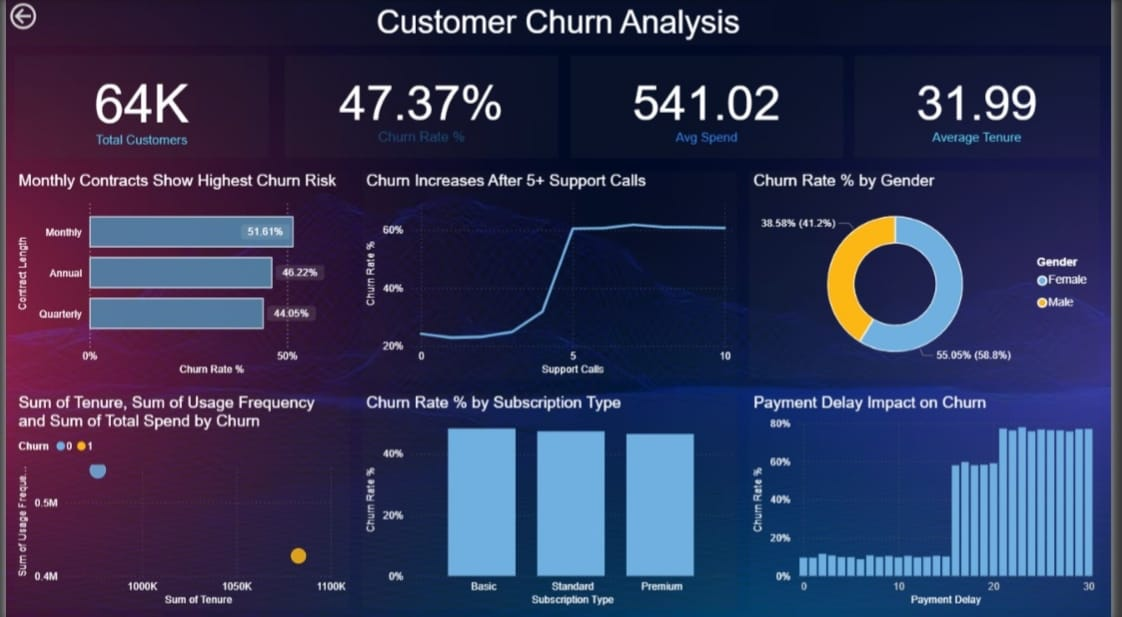

Layout of this report page (visuals, bound fields, positions):
{"tool":"powerbi","page":{"name":"Page 1","canvas":[1280,720],"ordinal":0},"visuals":[{"type":"textbox","box":[0,0,1280,53.3],"z":0},{"type":"card","fields":{"Values":["calculated measure.Total Customers"]},"box":[10,65.6,295.6,118.9],"z":1000},{"type":"actionButton","box":[0,0,100,40],"z":2000},{"type":"card","fields":{"Values":["calculated measure.Churn Rate %"]},"box":[323.3,65.6,316.7,118.9],"z":3000},{"type":"card","fields":{"Values":["calculated measure.Avg Spend"]},"box":[653.3,65.6,316.7,118.9],"z":4000},{"type":"card","fields":{"Values":["calculated measure.Average Tenure"]},"box":[983.3,65.6,284.4,118.9],"z":5000},{"type":"clusteredBarChart","title":"Monthly Contracts Show Highest Churn Risk","fields":{"Category":["customer_churn_dataset-testing-master.Contract Length"],"Y":["calculated measure.Churn Rate %"]},"box":[10,198.9,388.9,241.1],"z":6000},{"type":"columnChart","fields":{"Y":["calculated measure.Churn Rate %"],"Category":["customer_churn_dataset-testing-master.Subscription Type"]},"box":[412.2,455.6,435.6,250],"z":7000},{"type":"lineChart","title":"Churn Increases After 5+ Support Calls","fields":{"Y":["calculated measure.Churn Rate %"],"Category":["customer_churn_dataset-testing-master.Support Calls"]},"box":[412.2,198.9,435.6,241.1],"z":8000},{"type":"scatterChart","fields":{"X":["Sum(customer_churn_dataset-testing-master.Tenure)"],"Y":["Sum(customer_churn_dataset-testing-master.Usage Frequency)"],"Series":["customer_churn_dataset-testing-master.Churn"],"Size":["Sum(customer_churn_dataset-testing-master.Total Spend)"]},"box":[10,455.6,388.9,250],"z":9000},{"type":"donutChart","fields":{"Category":["customer_churn_dataset-testing-master.Gender"],"Y":["calculated measure.Churn Rate %"]},"box":[861.1,198.9,405.6,241.1],"z":10000},{"type":"clusteredColumnChart","title":"Payment Delay Impact on Churn","fields":{"Category":["customer_churn_dataset-testing-master.Payment Delay"],"Y":["calculated measure.Churn Rate %"]},"box":[861,456,406,250],"z":11000}]}

Visuals, with their boxes in screenshot pixels (x1, y1, x2, y2), scaled from the page's 1280x720 canvas onto the 1122x617 screenshot:
textbox: left=0, top=0, right=1121, bottom=46
card - calculated measure.Total Customers: left=9, top=56, right=268, bottom=158
actionButton: left=0, top=0, right=88, bottom=34
card - calculated measure.Churn Rate %: left=283, top=56, right=561, bottom=158
card - calculated measure.Avg Spend: left=573, top=56, right=850, bottom=158
card - calculated measure.Average Tenure: left=862, top=56, right=1111, bottom=158
"Monthly Contracts Show Highest Churn Risk" clusteredBarChart: left=9, top=170, right=350, bottom=377
columnChart - calculated measure.Churn Rate % x customer_churn_dataset-testing-master.Subscription Type: left=361, top=390, right=743, bottom=605
"Churn Increases After 5+ Support Calls" lineChart: left=361, top=170, right=743, bottom=377
scatterChart - Sum(customer_churn_dataset-testing-master.Tenure) x Sum(customer_churn_dataset-testing-master.Usage Frequency): left=9, top=390, right=350, bottom=605
donutChart - customer_churn_dataset-testing-master.Gender x calculated measure.Churn Rate %: left=755, top=170, right=1110, bottom=377
"Payment Delay Impact on Churn" clusteredColumnChart: left=755, top=391, right=1111, bottom=605
